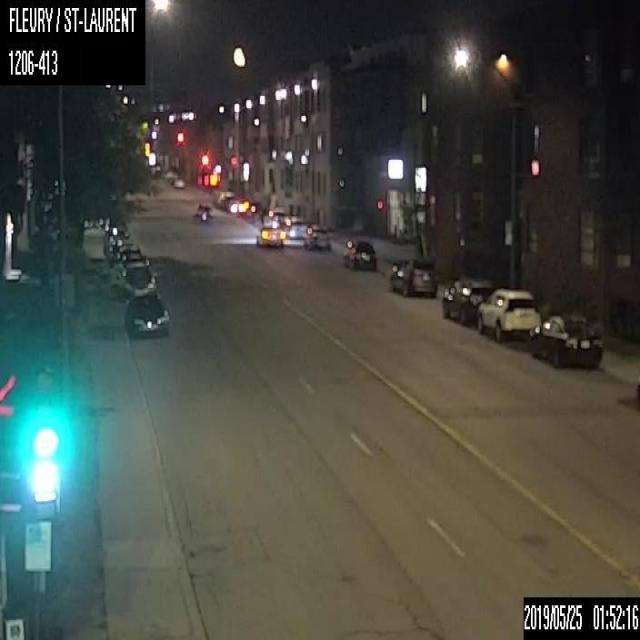vehicle: (529, 314, 603, 366), (478, 287, 540, 340), (441, 277, 494, 324), (388, 255, 437, 296), (124, 292, 168, 335), (118, 262, 156, 294), (340, 238, 377, 270), (255, 221, 285, 247), (303, 224, 329, 249), (281, 216, 307, 238), (192, 202, 212, 222), (172, 176, 184, 188)
